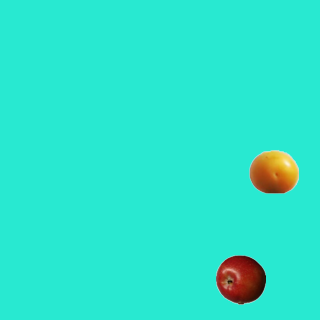Apple Braeburn: (215, 254, 265, 304)
Cherry Wax Yellow: (248, 146, 298, 196)
